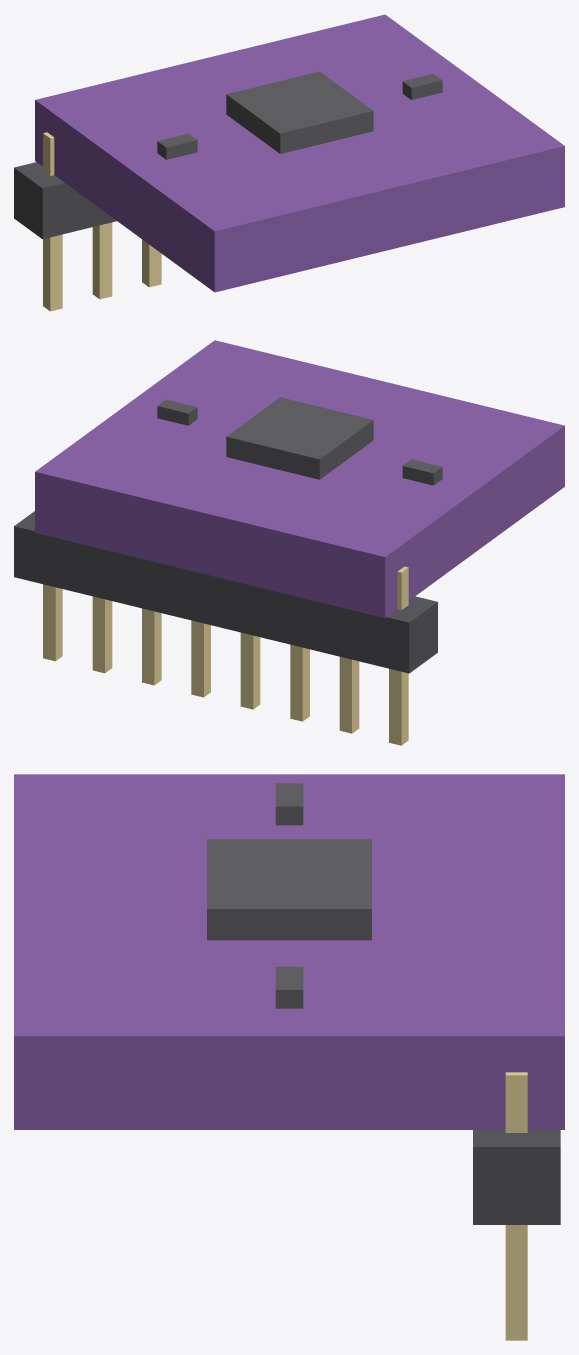
The model's file is ads1115.glb.
3 views of the same model, one above another, from view 1: azimuth 30°, elevation 25°; view 2: azimuth 150°, elevation 25°; view 3: azimuth 270°, elevation 25° (orthographic). The views are drawn at different scales.
Parts seen in each view (by area): view 1: ads1115-pcb, ads1115-ic, ads1115-plastic, ads1115-pins; view 2: ads1115-pcb, ads1115-plastic, ads1115-pins, ads1115-ic; view 3: ads1115-pcb, ads1115-ic, ads1115-plastic, ads1115-pins.
Boxes of the visible parts, x1,y1,x2,y2 form: ads1115-pcb: (35,14,564,292); ads1115-ic: (157,71,442,159); ads1115-plastic: (14,162,116,239); ads1115-pins: (43,132,161,311); ads1115-pcb: (35,340,564,617); ads1115-plastic: (14,511,437,673); ads1115-pins: (43,566,408,745); ads1115-ic: (157,397,442,485); ads1115-pcb: (14,774,564,1129); ads1115-ic: (207,783,371,1008); ads1115-plastic: (473,1130,560,1224); ads1115-pins: (505,1072,527,1340).
Size of the model in its own units: 0.0203 by 0.0107 by 0.016.
